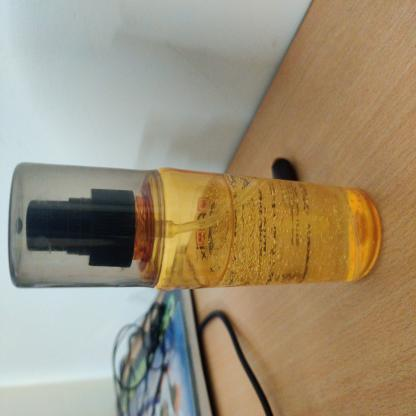bottle: (96, 13, 193, 416)
